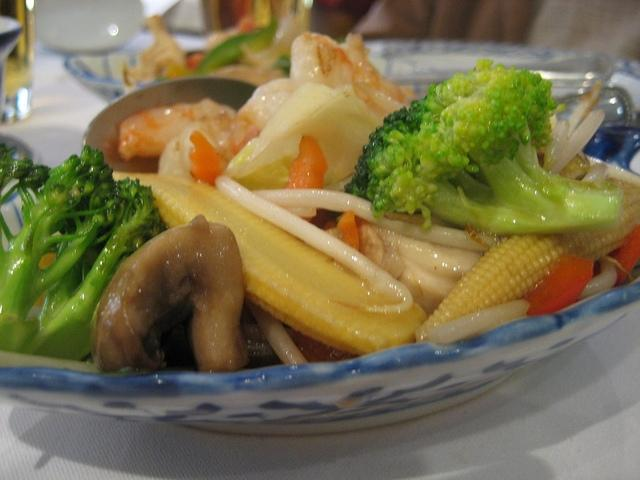broccoli: (344, 58, 624, 236), (21, 177, 168, 363), (2, 145, 120, 352)
carrot: (520, 255, 594, 317), (280, 136, 329, 190), (607, 224, 640, 288), (190, 130, 222, 186), (338, 210, 360, 252)
corn: (148, 176, 426, 354), (415, 177, 640, 343)
mushroom: (90, 214, 250, 374), (82, 77, 258, 174)
